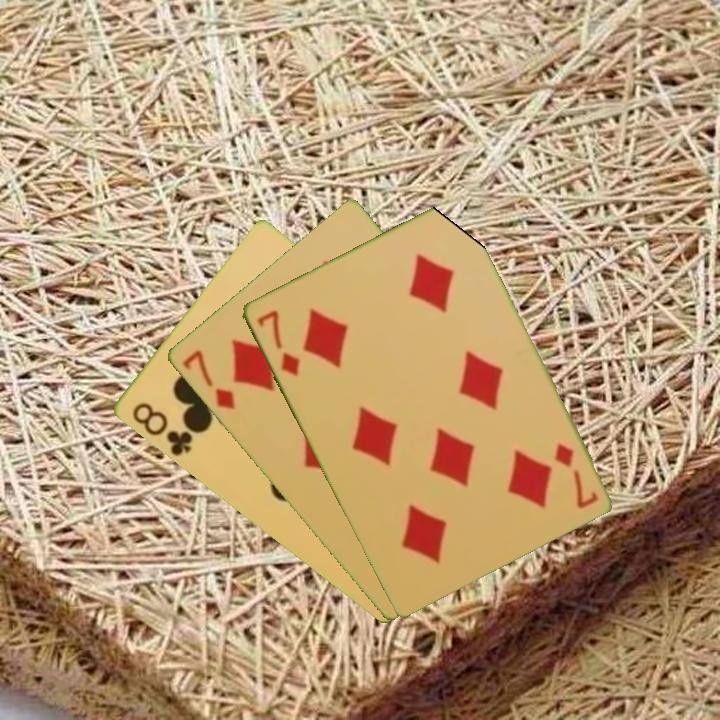7d: (178, 346, 238, 413), (550, 439, 601, 512), (253, 306, 302, 379)
8c: (128, 399, 195, 460)
